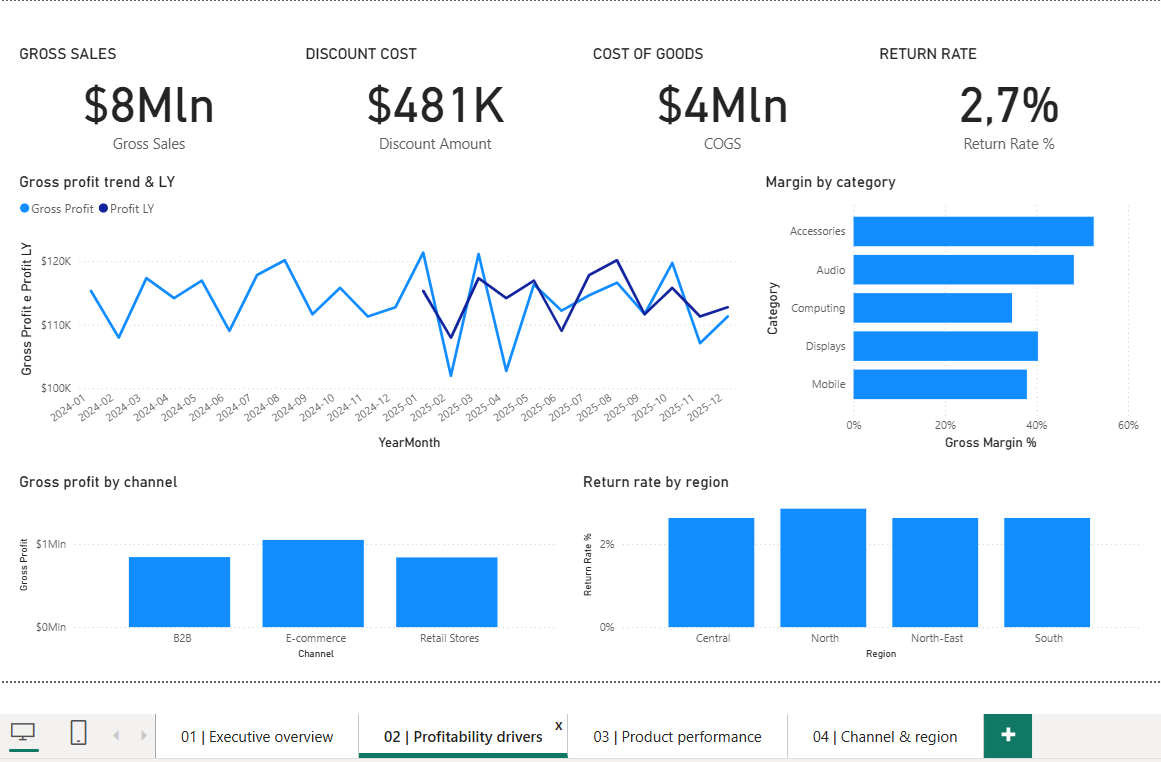

What the dashboard file says about the page in this screenshot:
{"tool":"powerbi","page":{"name":"02 | Profitability drivers","canvas":[1280,720],"ordinal":1},"visuals":[{"type":"card","title":"GROSS SALES","fields":{"Values":["Sales.Gross Sales"]},"box":[20,20,295,120],"z":0},{"type":"card","title":"DISCOUNT COST","fields":{"Values":["Sales.Discount Amount"]},"box":[335,20,295,120],"z":0},{"type":"card","title":"COST OF GOODS","fields":{"Values":["Sales.COGS"]},"box":[650,20,295,120],"z":0},{"type":"card","title":"RETURN RATE","fields":{"Values":["Sales.Return Rate %"]},"box":[965,20,295,120],"z":0},{"type":"lineChart","title":"Gross profit trend & LY","fields":{"Category":["Dates.YearMonth"],"Y":["Sales.Gross Profit","Sales.Profit LY"]},"box":[20,160,800,310],"z":0},{"type":"clusteredBarChart","title":"Margin by category","fields":{"Category":["Products.Category"],"Y":["Sales.Gross Margin %"]},"box":[840,160,420,310],"z":0},{"type":"clusteredColumnChart","title":"Gross profit by channel","fields":{"Category":["Channels.Channel"],"Y":["Sales.Gross Profit"]},"box":[20,490,600,210],"z":0},{"type":"clusteredColumnChart","title":"Return rate by region","fields":{"Category":["Regions.Region"],"Y":["Sales.Return Rate %"]},"box":[640,490,620,210],"z":0}]}

Visuals, with their boxes on the page's 1280x720 design canvas (x1, y1, x2, y2). These are canvas units, not pixel positions in the 1161x762 screenshot, which may show the page scaled, cropped or inside an application window:
"GROSS SALES" card: 20:20:315:140
"DISCOUNT COST" card: 335:20:630:140
"COST OF GOODS" card: 650:20:945:140
"RETURN RATE" card: 965:20:1260:140
"Gross profit trend & LY" lineChart: 20:160:820:470
"Margin by category" clusteredBarChart: 840:160:1260:470
"Gross profit by channel" clusteredColumnChart: 20:490:620:700
"Return rate by region" clusteredColumnChart: 640:490:1260:700
